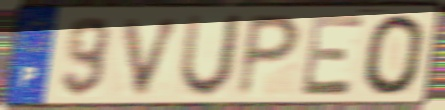9: (59, 13, 110, 101)
E: (298, 13, 368, 98)
O: (361, 11, 429, 99)
P: (232, 12, 304, 100)
U: (175, 12, 247, 101)
V: (121, 14, 187, 99)
